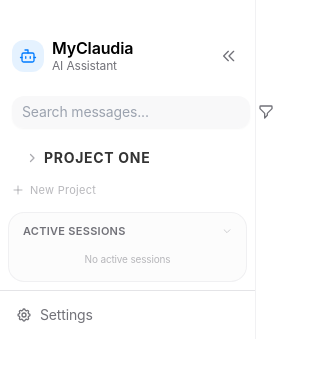
Test case: Sidebar › collapses project when clicked again
Click the button "Project One": [122, 158] box [22, 144, 223, 172]
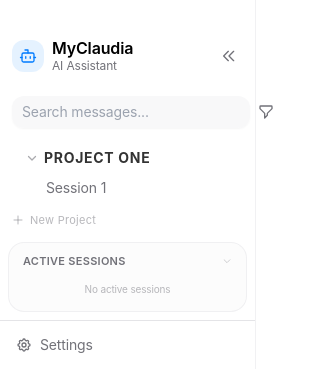
Result: the element with test id "session-list" is shown at [26, 174, 247, 202]
Click the button "Project One": [122, 158] box [22, 144, 223, 172]
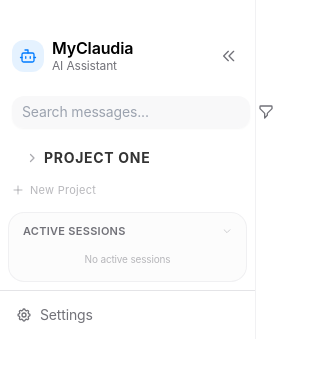
Result: the element with test id "session-list" is gone
